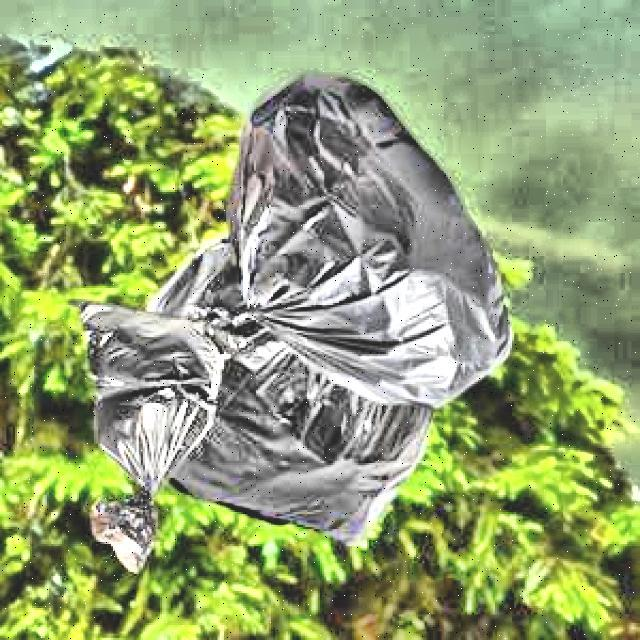Trashbag: (202, 58, 544, 388), (213, 374, 417, 535), (90, 307, 222, 476)
